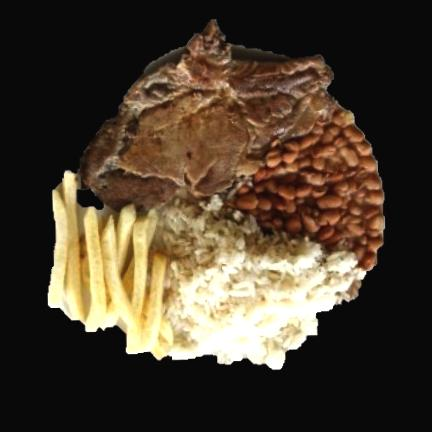beans: (227, 107, 384, 270)
meat: (81, 22, 335, 210)
potato: (48, 172, 172, 359)
rice: (155, 197, 365, 370)
